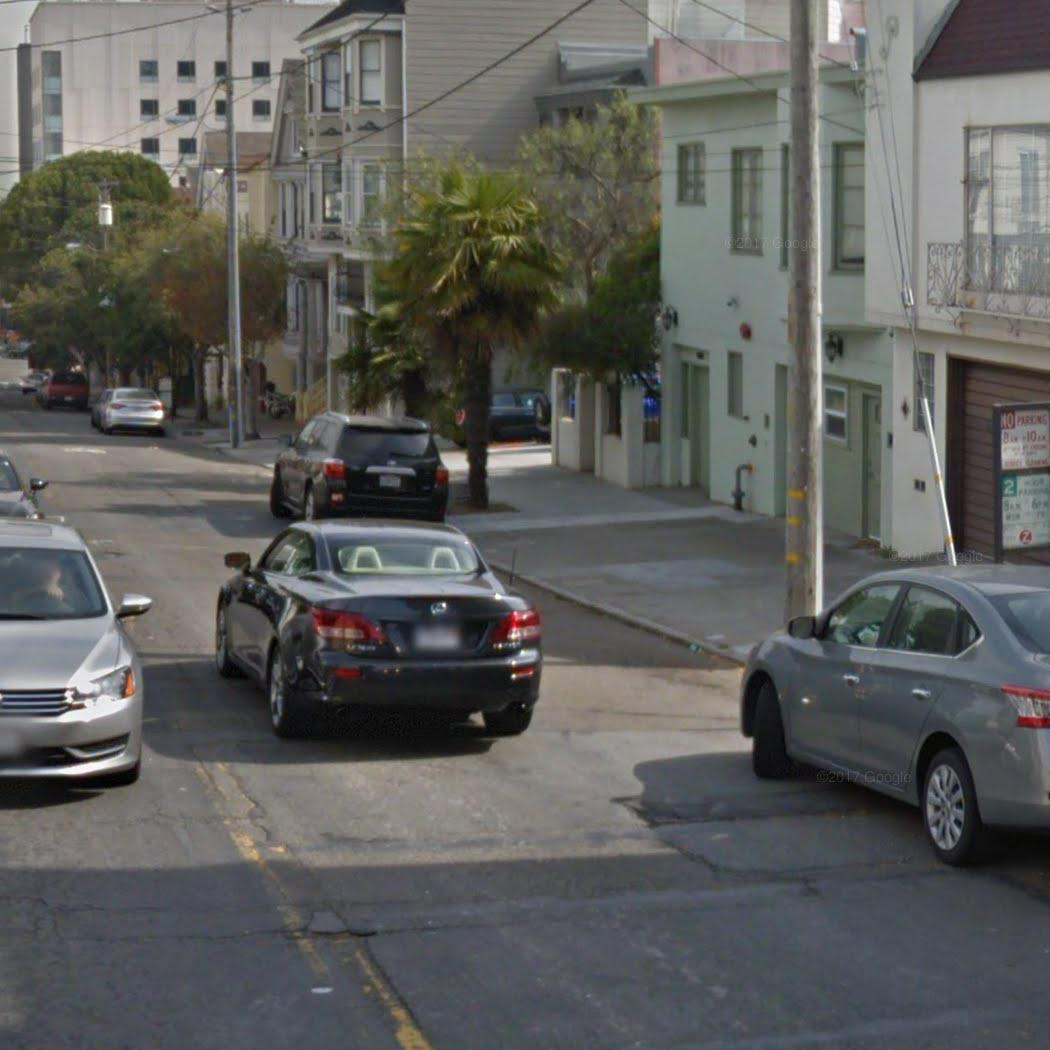2 Hour Parking: (995, 473, 1048, 551)
No Parking: (995, 403, 1050, 473)
